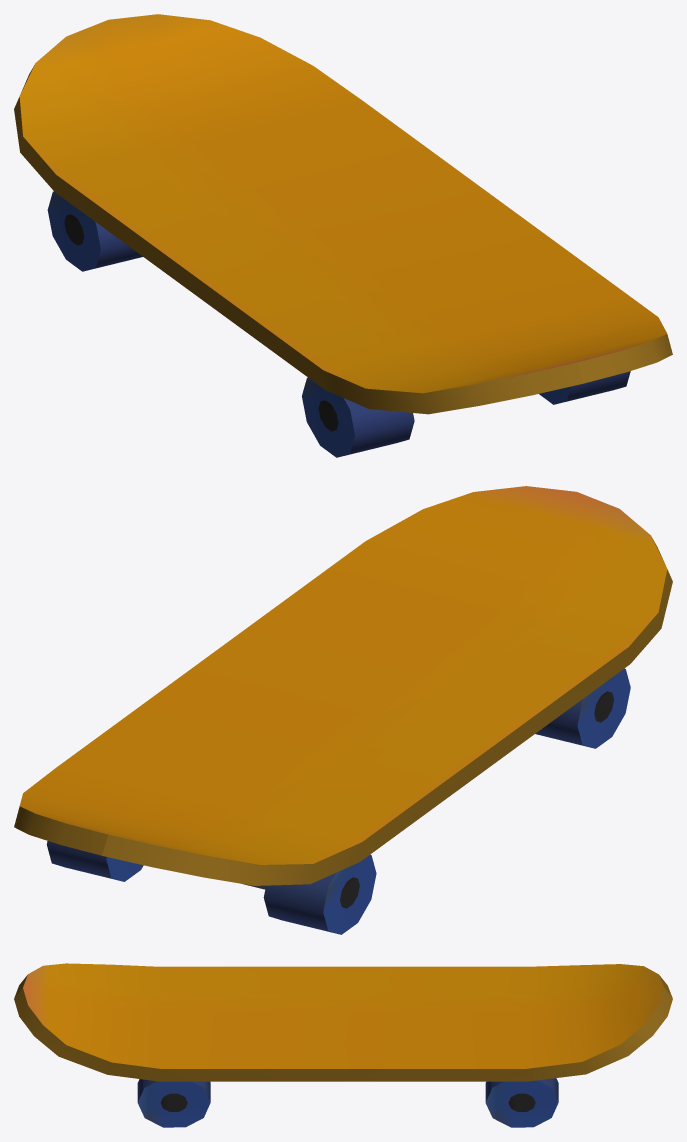
Rendered from board-lod0.glb.
The picture shows the model from 3 angles, top to bottom: view 1: azimuth 30°, elevation 25°; view 2: azimuth 150°, elevation 25°; view 3: azimuth 270°, elevation 25°; orthographic projection. The views are drawn at different scales.
Visible parts, largest first — view 1: max_goof_geo; view 2: max_goof_geo; view 3: max_goof_geo.
Part boxes in pixels (x1,y1,x2,y2): max_goof_geo: (14, 14, 672, 457); max_goof_geo: (14, 486, 672, 934); max_goof_geo: (14, 963, 672, 1127).
Bounding box in the file's own units: 0.8773 × 0.3744 × 2.39.
Materials: 1 (1 with a texture image).
